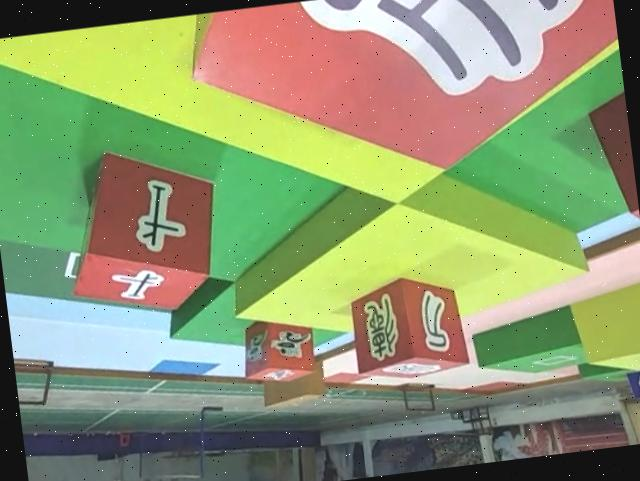R1: (238, 314, 320, 388)
R2 Fake: (184, 0, 630, 199), (346, 271, 467, 385)
R2 Real: (53, 135, 227, 323)
